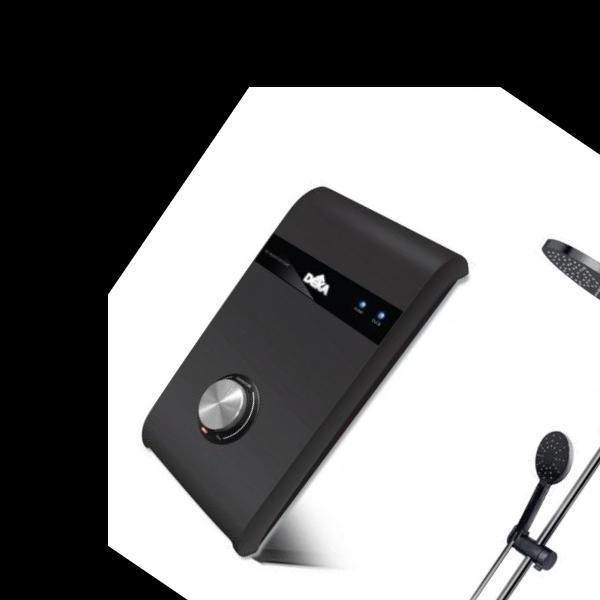Ducha: (292, 176, 600, 600)
